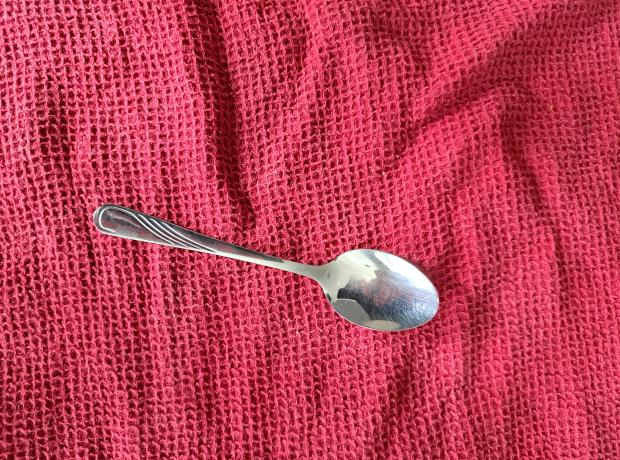metal: (94, 204, 445, 334)
